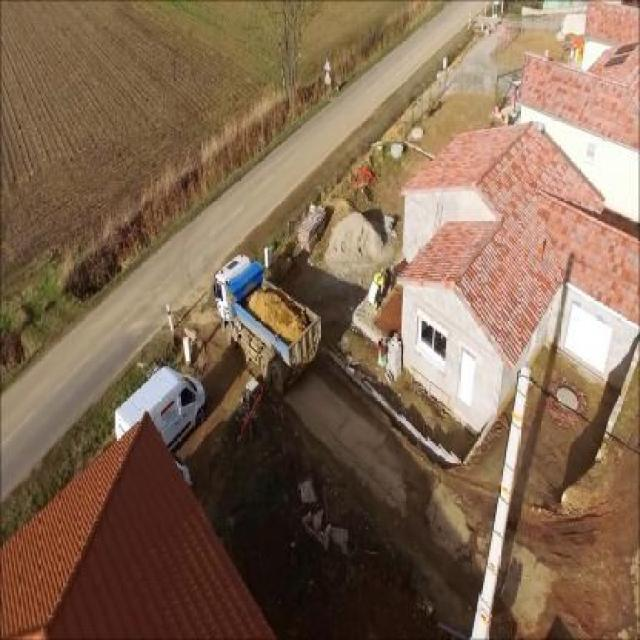dump_truck: (212, 250, 322, 398)
